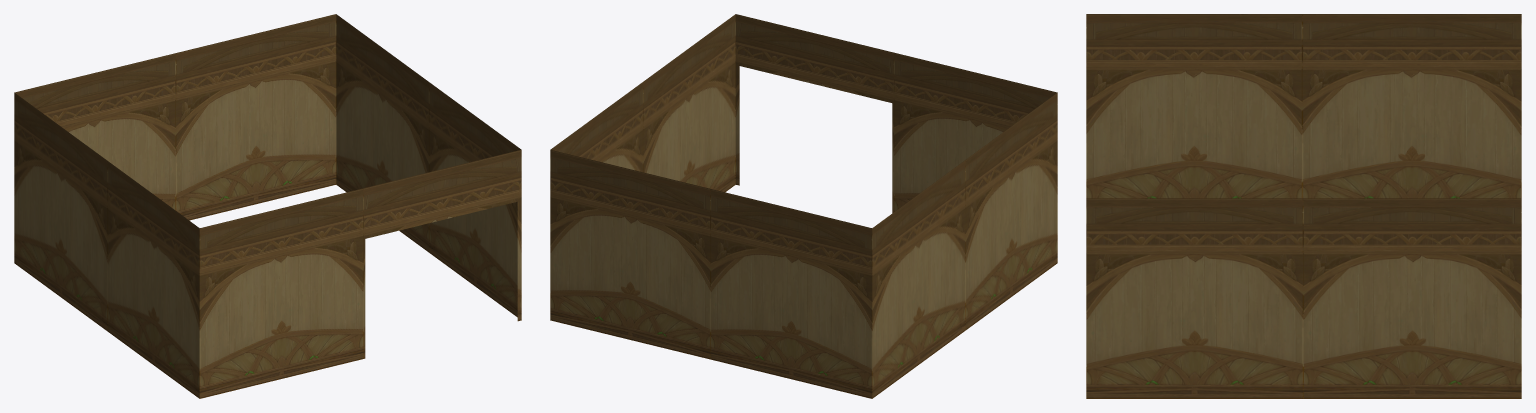
The model's file is Homeworld_Interior_Xm_Room_J_Filling_01_Vo.fbx.
3 views of the same model, side by side, from view 1: azimuth 30°, elevation 25°; view 2: azimuth 150°, elevation 25°; view 3: azimuth 270°, elevation 25° (orthographic). The views are drawn at different scales.
Visible parts, largest first — view 1: Homeworld_Interior_Xm_Room_J_Filling_01_Vo; view 2: Homeworld_Interior_Xm_Room_J_Filling_01_Vo; view 3: Homeworld_Interior_Xm_Room_J_Filling_01_Vo.
Part boxes in pixels (bbox=[...]): Homeworld_Interior_Xm_Room_J_Filling_01_Vo: bbox=[14, 14, 521, 398]; Homeworld_Interior_Xm_Room_J_Filling_01_Vo: bbox=[550, 14, 1057, 398]; Homeworld_Interior_Xm_Room_J_Filling_01_Vo: bbox=[1086, 14, 1521, 398].
Bounding box in the file's own units: 9.83 × 4.98 × 9.8.
